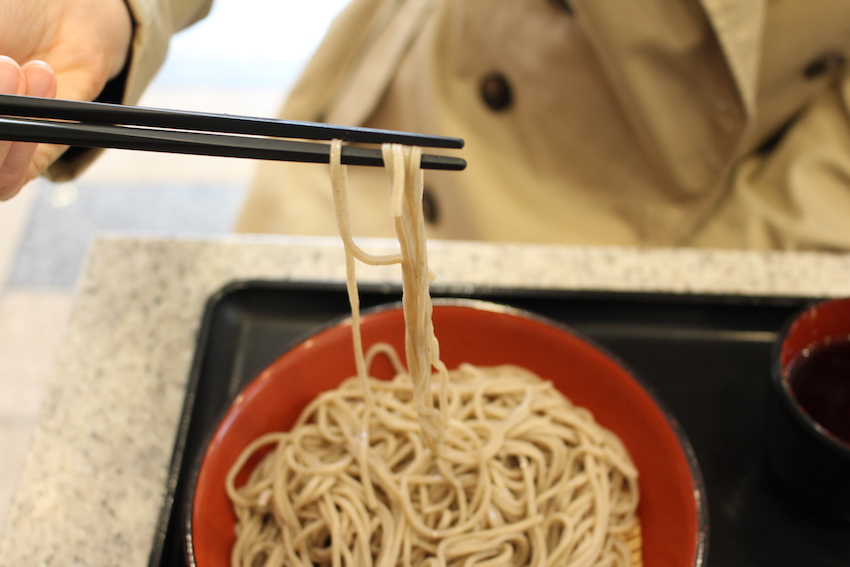Soba: (237, 351, 648, 565), (316, 143, 463, 464)
